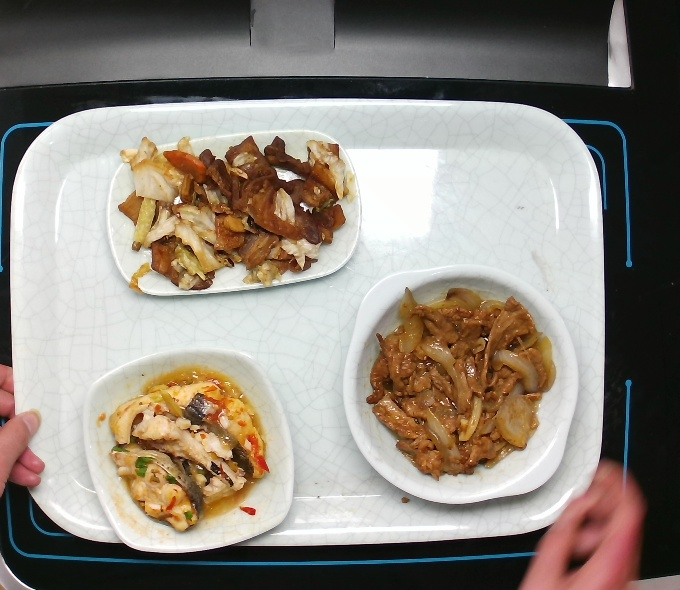wcq-DuoJiaoYuKuai: (110, 365, 262, 539)
wcq-PaoCaiRouPian: (125, 132, 361, 295)
wcq-YangCongRouPian: (365, 288, 554, 479)
